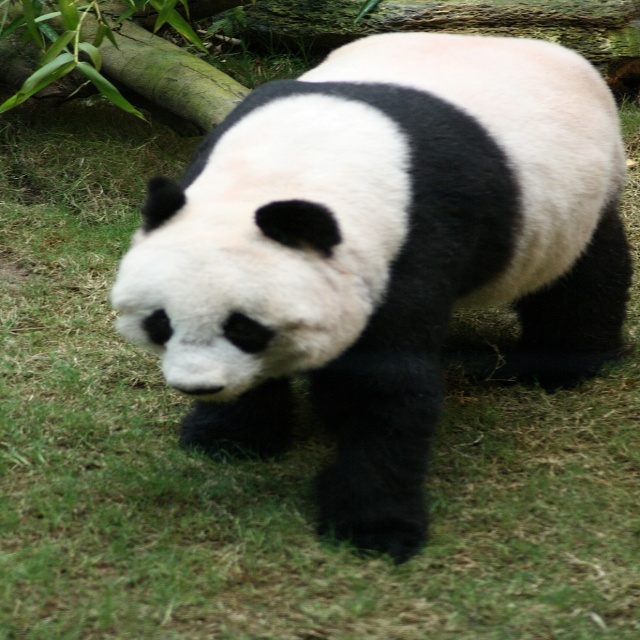Panda: (111, 25, 637, 565)
